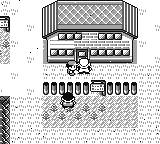leer: (90, 79, 106, 95), (0, 16, 10, 32)
main: (66, 60, 79, 76)
mo: (0, 96, 10, 143)
no-caminable: (42, 1, 138, 63), (43, 81, 89, 95), (107, 82, 137, 95)
npc: (60, 92, 76, 108), (76, 58, 92, 74)
puerta: (76, 49, 88, 62)
